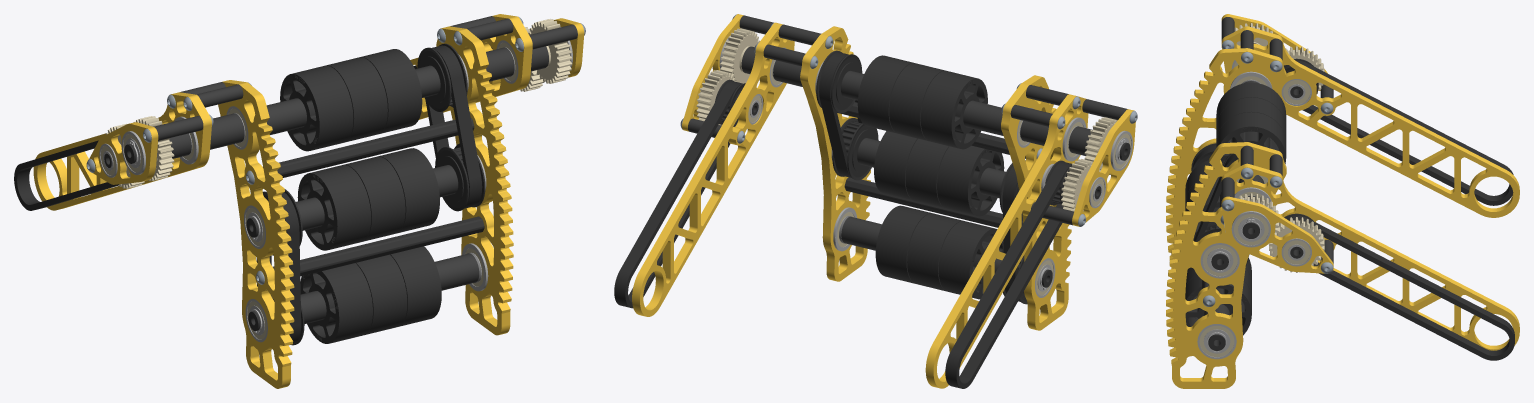
3 renders of one model, left to right at view 1: azimuth 30°, elevation 25°; view 2: azimuth 150°, elevation 25°; view 3: azimuth 270°, elevation 25°, orthographic. The views are drawn at different scales.
Visible parts, largest first — view 1: 2" Flex Wheel (30A, 1" Wide, 1/2" Hex Bore) (×9), Spur gear (186 teeth) (×2), Spacer (Configurable) (×12), Flywheel to Hood (×2), Shaft (×2), 50T 5M 9mm Wide Belt (×2), 24t Aluminum Pulley (HTD 5mm, 9mm Wide, 1/2" Hex Bore) (×2), miniplate (×2), 30t Aluminum Spur Gear (20 DP, 1/2" Hex Bore) (×2), 1/2" Hex Bore Bearing (1.125" OD, 0.313" WD, Shielded, Flang (×4), 84T 5M 9mm Wide Belt; view 2: 2" Flex Wheel (30A, 1" Wide, 1/2" Hex Bore) (×9), Flywheel to Hood (×2), 84T 5M 9mm Wide Belt (×2), Spur gear (186 teeth) (×2), Spacer (Configurable) (×13), 30t Aluminum Spur Gear (20 DP, 1/2" Hex Bore) (×4), miniplate (×2), 24t Aluminum Pulley (HTD 5mm, 9mm Wide, 1/2" Hex Bore) (×2), 50T 5M 9mm Wide Belt (×2), Shaft (×2), 1/2" Hex Bore Bearing (1.125" OD, 0.313" WD, Shielded, Flang (×2); view 3: Spur gear (186 teeth) (×2), Flywheel to Hood (×2), 84T 5M 9mm Wide Belt (×2), 2" Flex Wheel (30A, 1" Wide, 1/2" Hex Bore) (×5), miniplate (×2), 1/2" Hex Bore Bearing (1.125" OD, 0.313" WD, Shielded, Flang (×4), 30t Aluminum Spur Gear (20 DP, 1/2" Hex Bore) (×3), 0.375" ID Bearing (0.875" OD, 0.28" WD, Shielded, Flanged) (×2), Shaft (×3), 50T 5M 9mm Wide Belt.
Boxes of the visible parts, left/top/right/bottom form: 2" Flex Wheel (30A, 1" Wide, 1/2" Hex Bore) (×9): left=280, top=49, right=441, bottom=343; Spur gear (186 teeth) (×2): left=218, top=26, right=513, bottom=388; Spacer (Configurable) (×12): left=153, top=18, right=577, bottom=323; Flywheel to Hood (×2): left=33, top=14, right=532, bottom=210; Shaft (×2): left=263, top=118, right=484, bottom=276; 50T 5M 9mm Wide Belt (×2): left=256, top=45, right=482, bottom=344; 24t Aluminum Pulley (HTD 5mm, 9mm Wide, 1/2" Hex Bore) (×2): left=417, top=43, right=485, bottom=211; miniplate (×2): left=89, top=18, right=584, bottom=184; 30t Aluminum Spur Gear (20 DP, 1/2" Hex Bore) (×2): left=133, top=19, right=572, bottom=180; 1/2" Hex Bore Bearing (1.125" OD, 0.313" WD, Shielded, Flang (×4): left=121, top=131, right=488, bottom=342; 84T 5M 9mm Wide Belt: left=14, top=140, right=118, bottom=210; 2" Flex Wheel (30A, 1" Wide, 1/2" Hex Bore) (×9): left=857, top=55, right=1004, bottom=299; Flywheel to Hood (×2): left=632, top=22, right=1088, bottom=388; 84T 5M 9mm Wide Belt (×2): left=614, top=81, right=1071, bottom=388; Spur gear (186 teeth) (×2): left=800, top=26, right=1071, bottom=330; Spacer (Configurable) (×13): left=763, top=24, right=1127, bottom=250; 30t Aluminum Spur Gear (20 DP, 1/2" Hex Bore) (×4): left=696, top=28, right=1117, bottom=211; miniplate (×2): left=682, top=14, right=1135, bottom=226; 24t Aluminum Pulley (HTD 5mm, 9mm Wide, 1/2" Hex Bore) (×2): left=816, top=50, right=878, bottom=180; 50T 5M 9mm Wide Belt (×2): left=819, top=52, right=1020, bottom=301; Shaft (×2): left=837, top=102, right=1025, bottom=227; 1/2" Hex Bore Bearing (1.125" OD, 0.313" WD, Shielded, Flang (×2): left=1062, top=117, right=1132, bottom=170; Spur gear (186 teeth) (×2): left=1166, top=48, right=1286, bottom=388; Flywheel to Hood (×2): left=1221, top=26, right=1519, bottom=350; 84T 5M 9mm Wide Belt (×2): left=1279, top=60, right=1514, bottom=360; 2" Flex Wheel (30A, 1" Wide, 1/2" Hex Bore) (×5): left=1185, top=82, right=1286, bottom=335; miniplate (×2): left=1221, top=14, right=1333, bottom=273; 1/2" Hex Bore Bearing (1.125" OD, 0.313" WD, Shielded, Flang (×4): left=1197, top=71, right=1272, bottom=359; 30t Aluminum Spur Gear (20 DP, 1/2" Hex Bore) (×3): left=1224, top=46, right=1324, bottom=272; 0.375" ID Bearing (0.875" OD, 0.28" WD, Shielded, Flanged) (×2): left=1281, top=79, right=1311, bottom=266; Shaft (×3): left=1207, top=219, right=1260, bottom=352; 50T 5M 9mm Wide Belt: left=1194, top=153, right=1249, bottom=254.
Size of the model in its own units: 0.3277 by 0.1956 by 0.2578.
